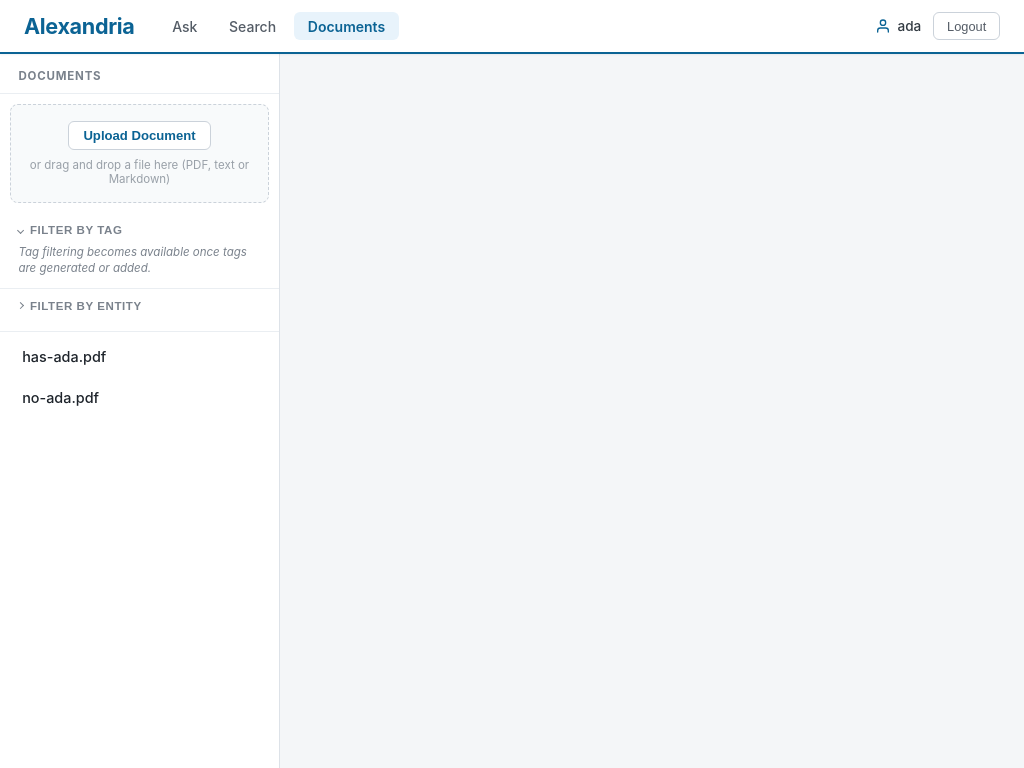
Test: MainView › filters by entity and then clears the selection
Click the button "Filter by entity" at [80, 306], box [18,300,142,312]
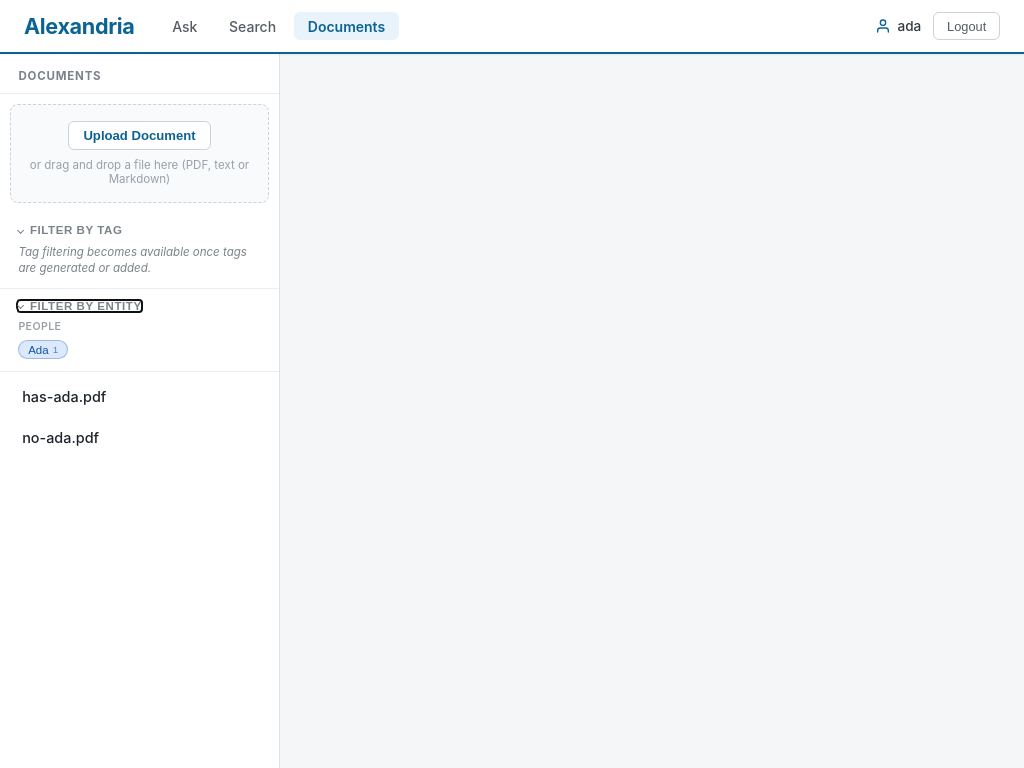
Click the button "Ada 1" at [43, 350], box [18,340,68,359]
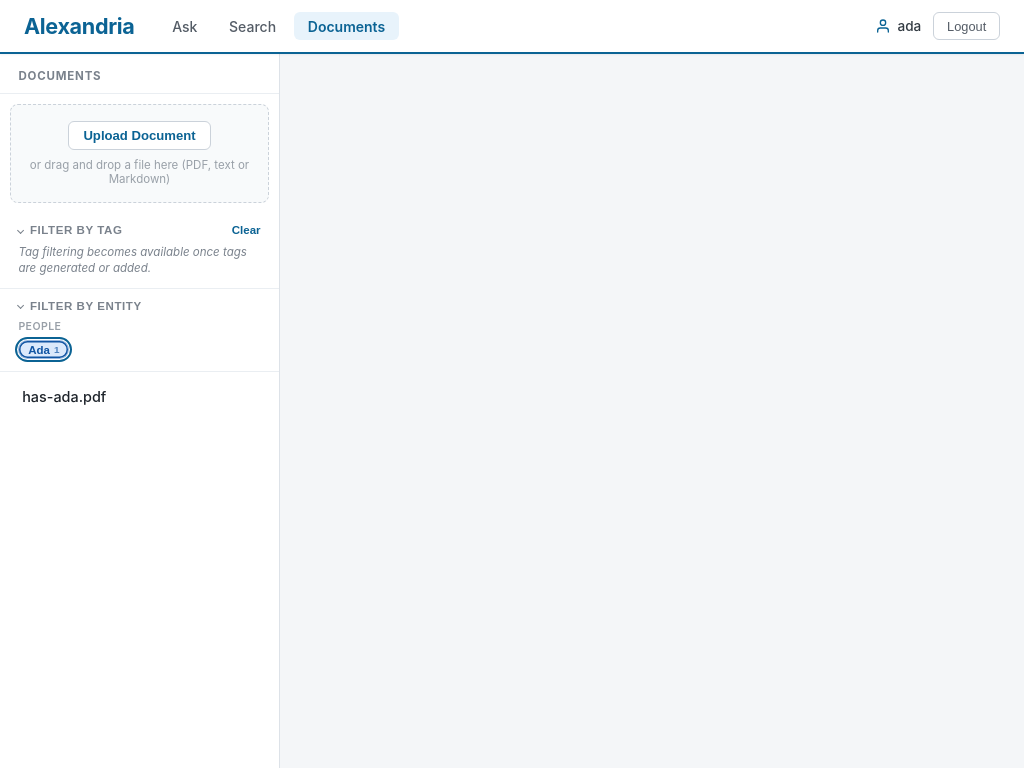
expect the text "has-ada.pdf" is shown: met, box [22,388,106,405]
expect the link "no-ada.pdf" is gone: met
Click the button "Clear" at [246, 230], box [232,224,261,236]
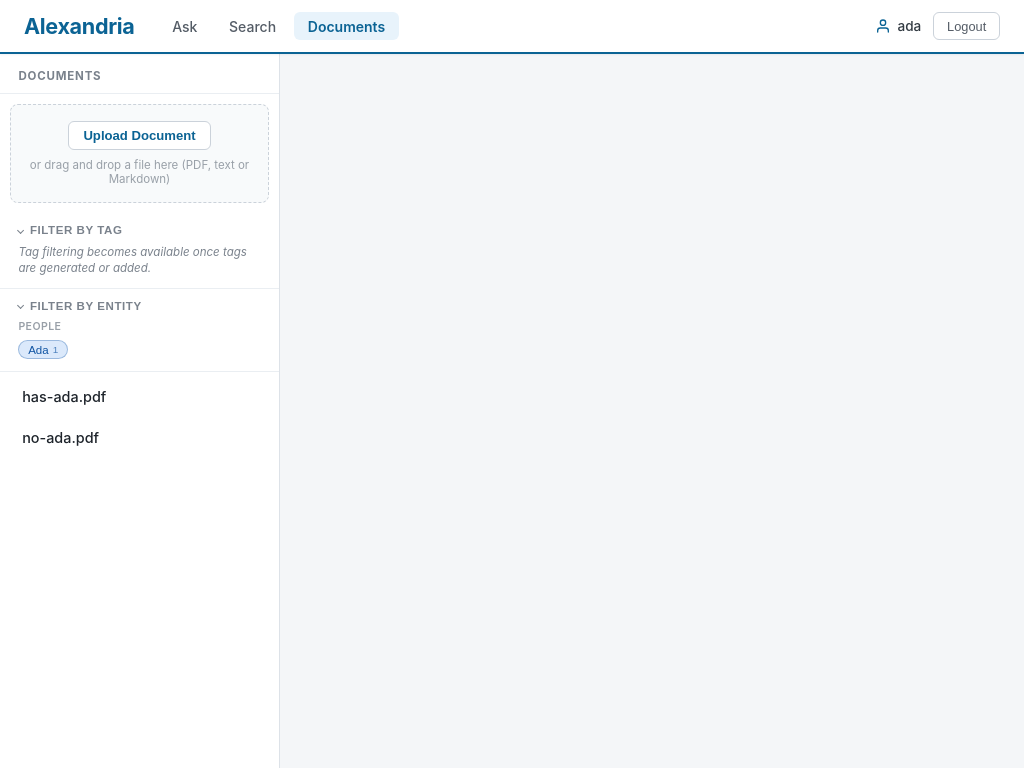
expect the text "no-ada.pdf" is shown: met, box [22,429,99,446]
